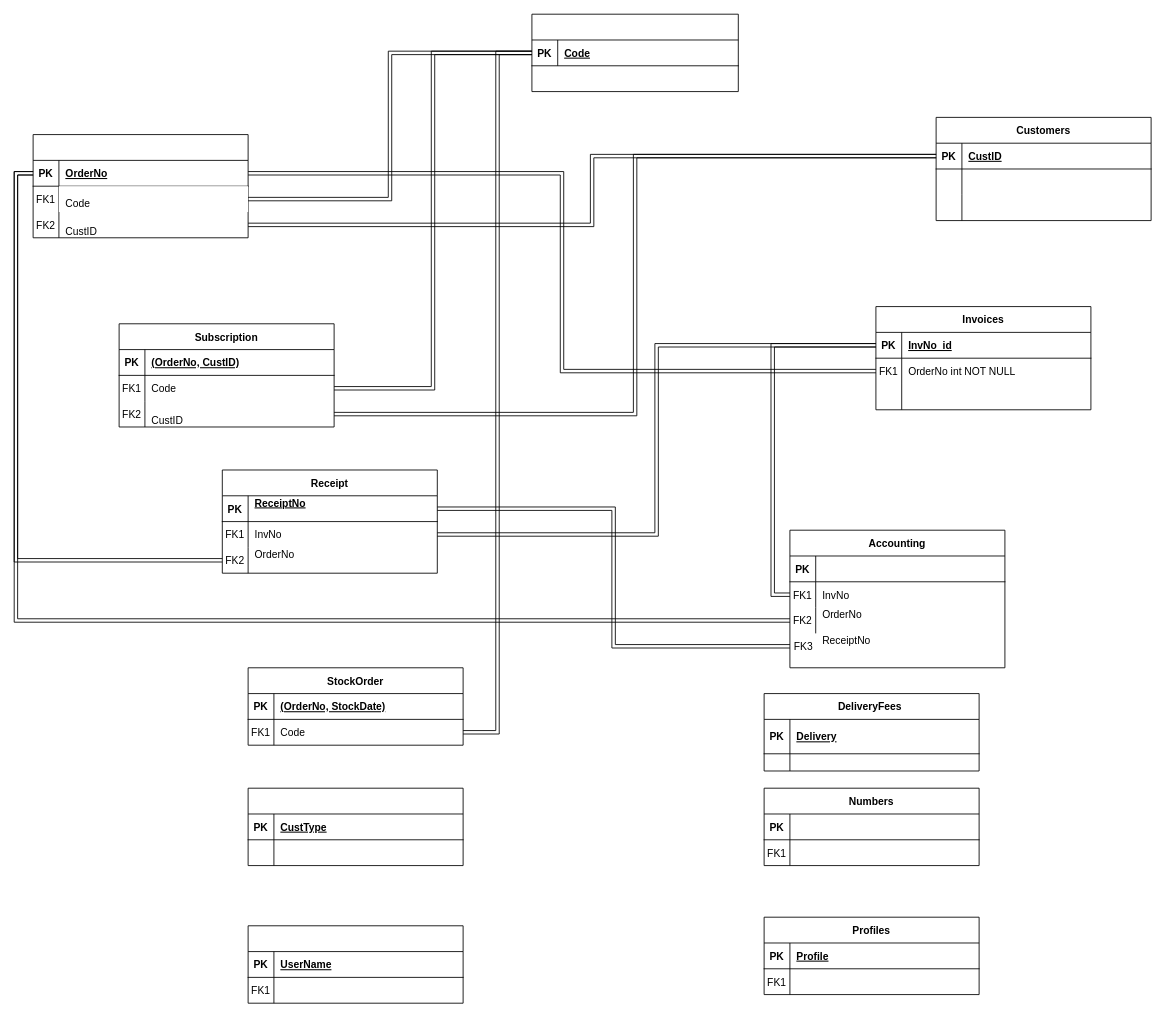
Image size: 1165x1017. Some labels were removed from this diagram. The shapes that lost their labels are listed below. From the top down, each one's box as (x1, y1, x2, y2) in pixels, then its label:
(531, 13, 738, 92): Items
(32, 134, 248, 238): ExOrders
(247, 787, 463, 866): Discounts
(247, 925, 463, 1003): Users
